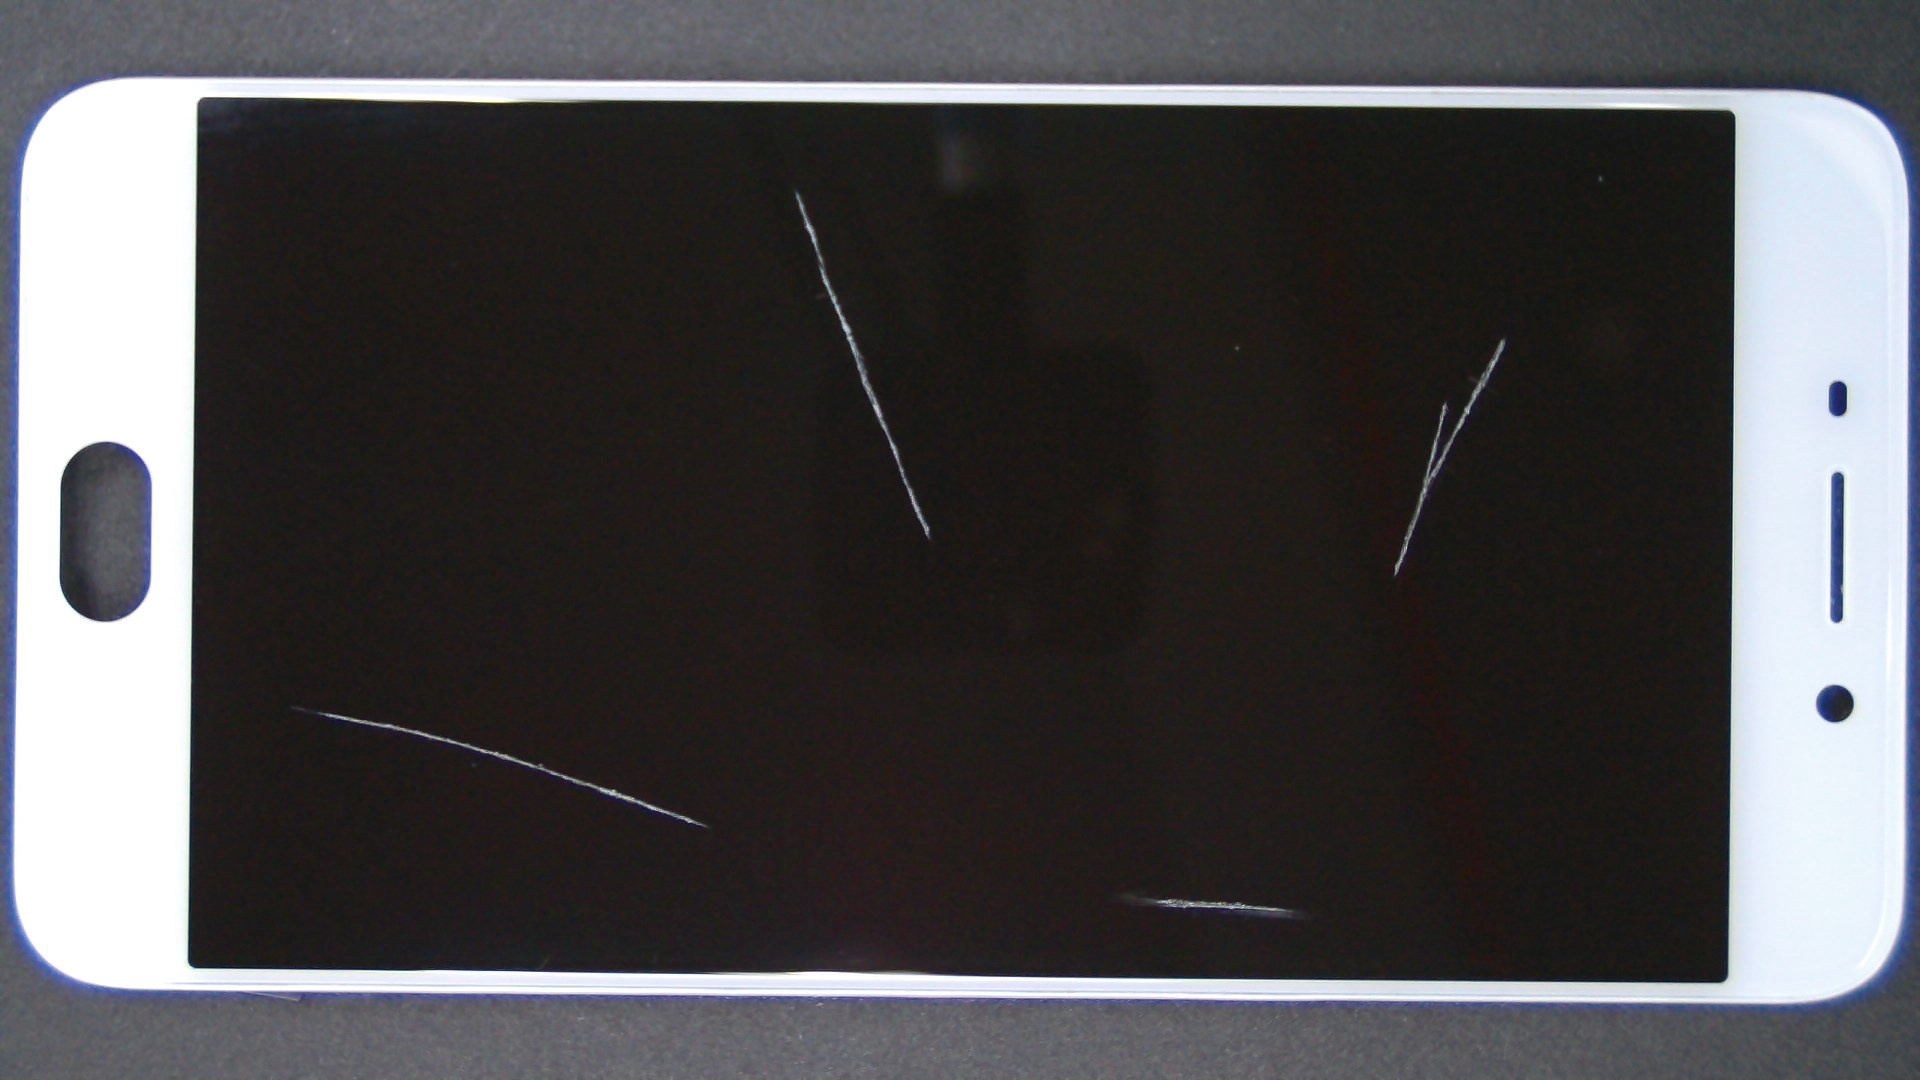oil: (559, 444, 1688, 1080), (752, 167, 1920, 508), (145, 352, 436, 1059), (400, 94, 1195, 286)
